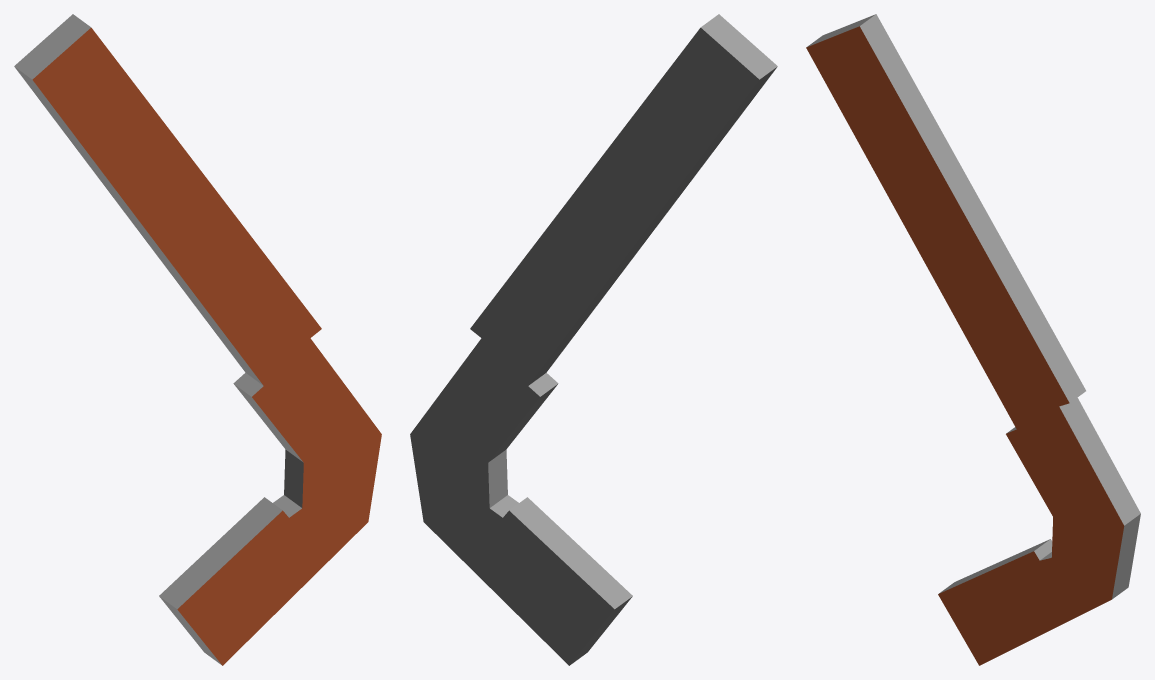
The model's file is construction_2092_assumed_A_Casa_h6m.obj.
3 renders of one model, left to right at view 1: azimuth 30°, elevation 25°; view 2: azimuth 150°, elevation 25°; view 3: azimuth 330°, elevation 25°, orthographic. The views are drawn at different scales.
Parts seen in each view (by area): view 1: construction_2092_assumed_A_Casa; view 2: construction_2092_assumed_A_Casa; view 3: construction_2092_assumed_A_Casa.
Boxes of the visible parts, x1,y1,x2,y2 form: construction_2092_assumed_A_Casa: [14, 14, 381, 665]; construction_2092_assumed_A_Casa: [410, 14, 777, 665]; construction_2092_assumed_A_Casa: [806, 14, 1140, 665].
Size of the model in its own units: 65.98 by 121 by 6.
